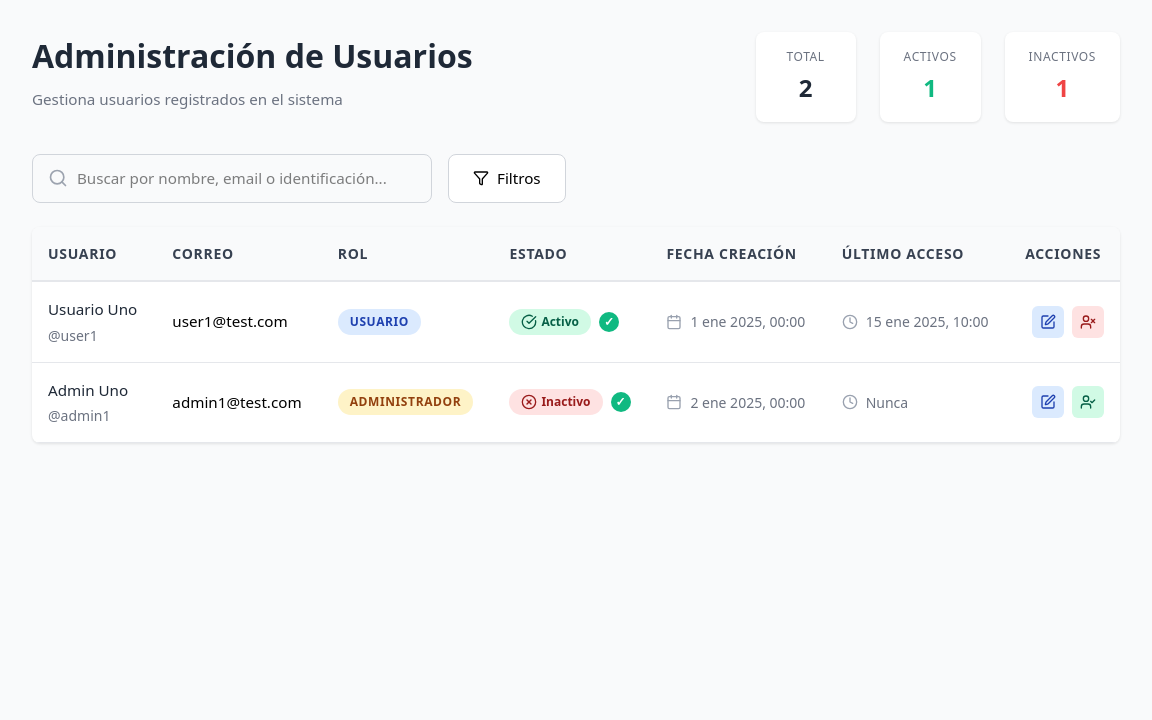
AdminUsers › debe permitir filtrar por estado activo/inactivo
Expected: the text "Usuario Uno" is shown, [48,298,140,321]
Click the button "Filtros": x=507, y=178 [448,154,566,203]
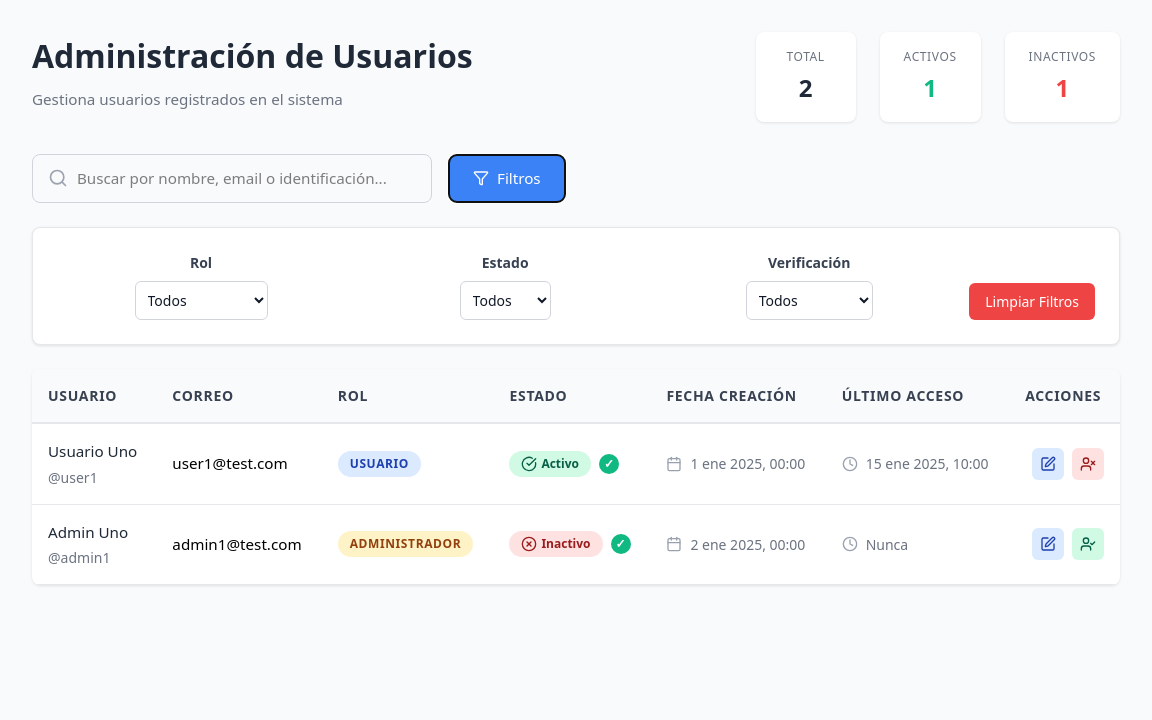
Now the 1st dropdown is shown, box [134,281,268,320]
Now the 2nd dropdown is shown
Select "Inactivo" in the 2nd dropdown: x=505, y=300 [460,281,551,320]
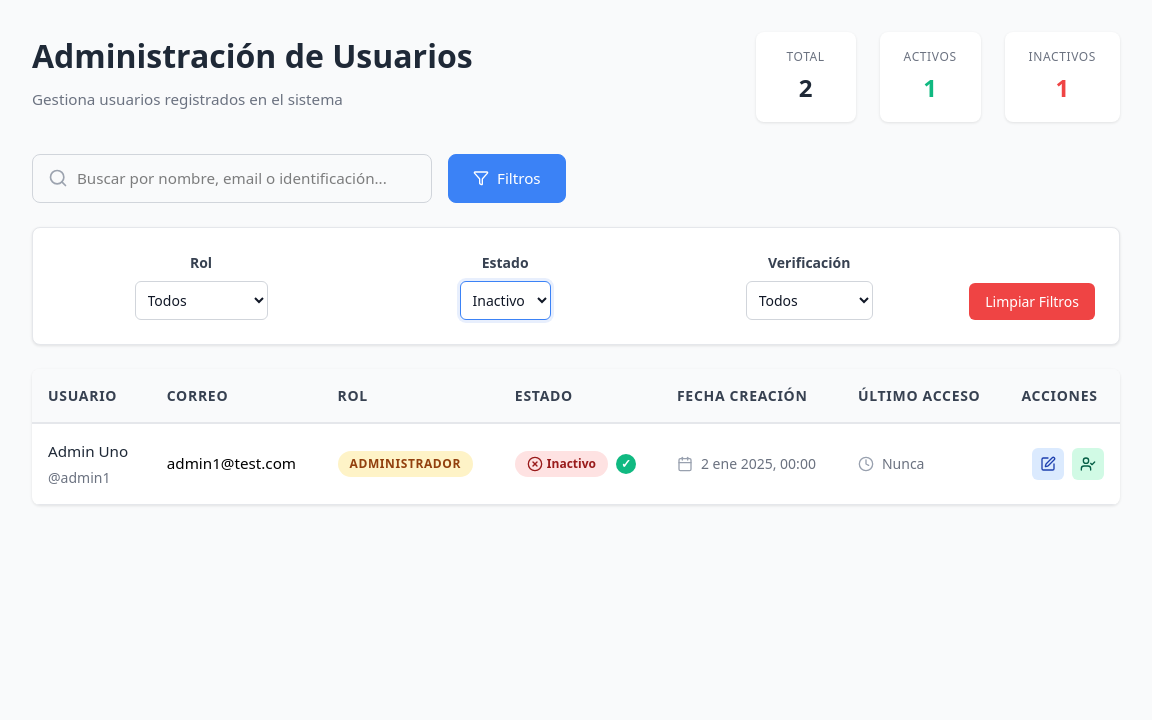
Expected: the text "Admin Uno" is shown, [48,440,135,463]
Now the text "Usuario Uno" is gone
